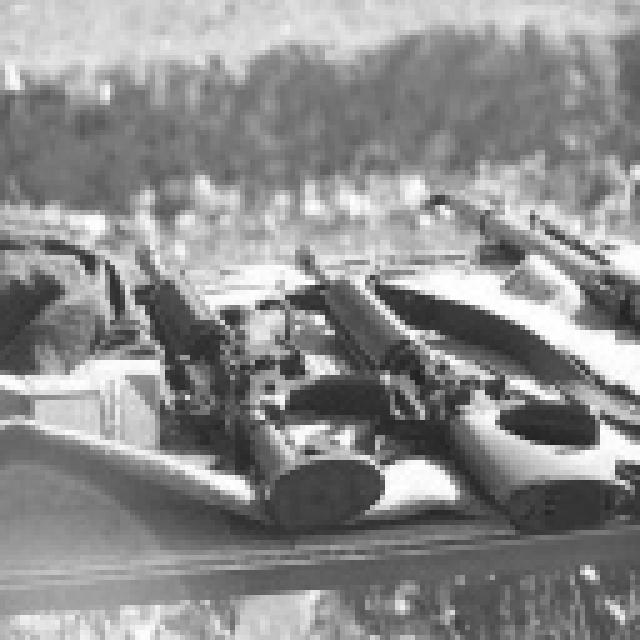Rifle: (249, 194, 640, 550), (106, 219, 397, 564), (392, 152, 640, 334), (0, 0, 133, 244)
